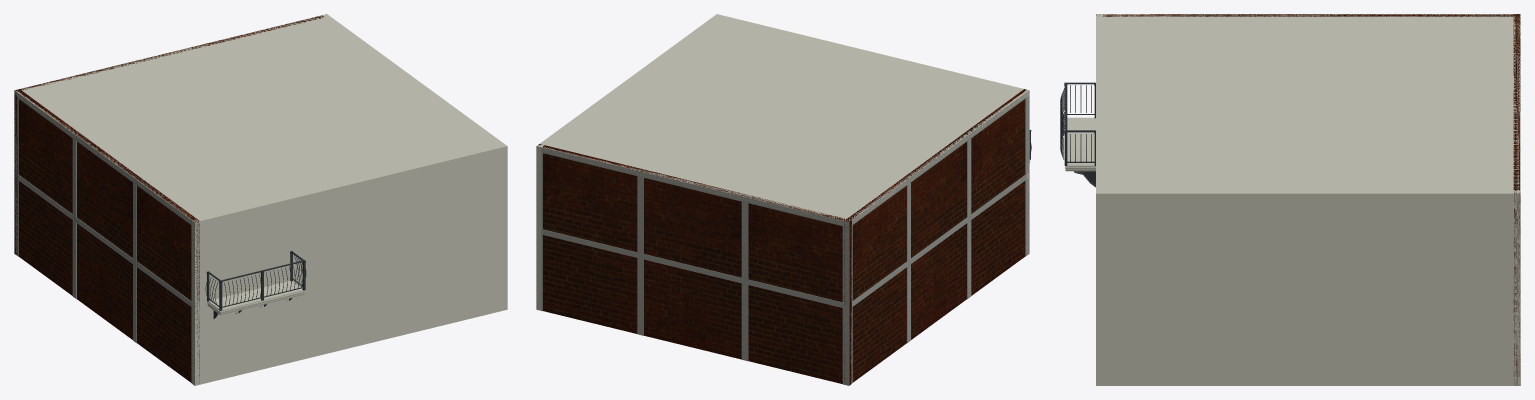
File: building.glb
3 views of the same model, side by side, from view 1: azimuth 30°, elevation 25°; view 2: azimuth 150°, elevation 25°; view 3: azimuth 270°, elevation 25° (orthographic). The views are drawn at different scales.
Visible parts, largest first — view 1: roof/house:0/roof_slab#0001, house:0/edge0/z0/house:0/edge0/z0/wall_0_0, house:0/edge3/z0/house:0/edge3/z0/wall_0_0, house:0/edge2/z0/house:0/edge2/z0/wall_0_0, house:0/edge1/z0/house:0/edge1/z0/wall_0_0, house:0/edge3/z0/house:0/edge3/z0/beam_0_0, house:0/edge3/z0/house:0/edge3/z0/beam_1_0, balcony/sample/balcony_platform#0001, balcony/sample/balcony_fascia#0001; view 2: roof/house:0/roof_slab#0001, house:0/edge2/z0/house:0/edge2/z0/wall_0_0, house:0/edge3/z0/house:0/edge3/z0/wall_0_0, house:0/edge1/z0/house:0/edge1/z0/wall_0_0, house:0/edge2/z0/house:0/edge2/z0/beam_0_0, house:0/edge2/z0/house:0/edge2/z0/beam_1_0, house:0/edge0/z0/house:0/edge0/z0/wall_0_0, house:0/edge3/z0/house:0/edge3/z0/beam_0_0, house:0/edge3/z0/house:0/edge3/z0/beam_1_0, house:0/edge2/z0/house:0/edge2/z0/column_1_1, house:0/edge2/z0/house:0/edge2/z0/column_3_0, house:0/edge2/z0/house:0/edge2/z0/column_3_1 (+3 smaller); view 3: house:0/edge1/z0/house:0/edge1/z0/wall_0_0, roof/house:0/roof_slab#0001, house:0/edge0/z0/house:0/edge0/z0/wall_0_0, house:0/edge2/z0/house:0/edge2/z0/wall_0_0, balcony/sample/balcony_platform#0001, house:0/edge3/z0/house:0/edge3/z0/wall_0_0.
Part boxes in pixels (bbox=[...]): roof/house:0/roof_slab#0001: bbox=[14, 14, 507, 225]; house:0/edge0/z0/house:0/edge0/z0/wall_0_0: bbox=[192, 144, 507, 385]; house:0/edge3/z0/house:0/edge3/z0/wall_0_0: bbox=[17, 89, 199, 382]; house:0/edge2/z0/house:0/edge2/z0/wall_0_0: bbox=[14, 15, 323, 254]; house:0/edge1/z0/house:0/edge1/z0/wall_0_0: bbox=[322, 14, 507, 310]; house:0/edge3/z0/house:0/edge3/z0/beam_0_0: bbox=[14, 172, 195, 309]; house:0/edge3/z0/house:0/edge3/z0/beam_1_0: bbox=[14, 90, 194, 227]; balcony/sample/balcony_platform#0001: bbox=[208, 281, 303, 311]; balcony/sample/balcony_fascia#0001: bbox=[207, 290, 304, 315]; roof/house:0/roof_slab#0001: bbox=[540, 15, 1029, 225]; house:0/edge2/z0/house:0/edge2/z0/wall_0_0: bbox=[538, 144, 851, 385]; house:0/edge3/z0/house:0/edge3/z0/wall_0_0: bbox=[844, 89, 1026, 384]; house:0/edge1/z0/house:0/edge1/z0/wall_0_0: bbox=[536, 14, 721, 310]; house:0/edge2/z0/house:0/edge2/z0/beam_0_0: bbox=[541, 229, 849, 309]; house:0/edge2/z0/house:0/edge2/z0/beam_1_0: bbox=[537, 146, 849, 227]; house:0/edge0/z0/house:0/edge0/z0/wall_0_0: bbox=[714, 14, 1029, 253]; house:0/edge3/z0/house:0/edge3/z0/beam_0_0: bbox=[851, 173, 1028, 307]; house:0/edge3/z0/house:0/edge3/z0/beam_1_0: bbox=[852, 90, 1029, 225]; house:0/edge2/z0/house:0/edge2/z0/column_1_1: bbox=[842, 226, 849, 303]; house:0/edge2/z0/house:0/edge2/z0/column_3_0: bbox=[741, 202, 748, 279]; house:0/edge2/z0/house:0/edge2/z0/column_3_1: bbox=[741, 283, 748, 361]; house:0/edge1/z0/house:0/edge1/z0/wall_0_0: bbox=[1096, 190, 1520, 385]; roof/house:0/roof_slab#0001: bbox=[1096, 14, 1520, 197]; house:0/edge0/z0/house:0/edge0/z0/wall_0_0: bbox=[1096, 14, 1102, 385]; house:0/edge2/z0/house:0/edge2/z0/wall_0_0: bbox=[1513, 14, 1520, 385]; balcony/sample/balcony_platform#0001: bbox=[1066, 117, 1095, 166]; house:0/edge3/z0/house:0/edge3/z0/wall_0_0: bbox=[1096, 14, 1514, 16].
Bounding box in the file's own units: 12 × 6 × 13.01.
4 materials, 1 textured.
